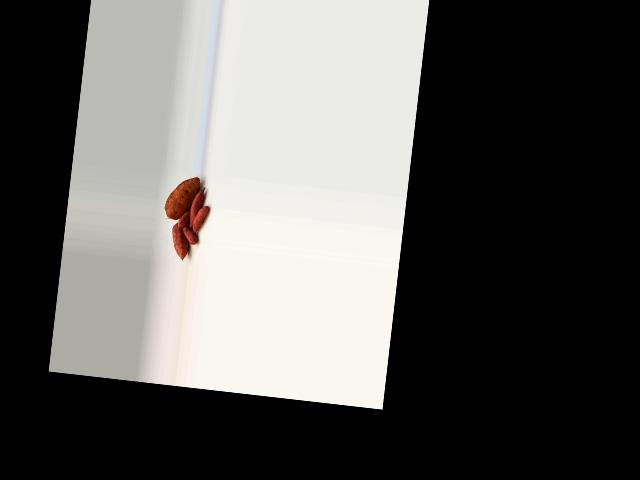sweet_potato: (169, 223, 191, 262)
